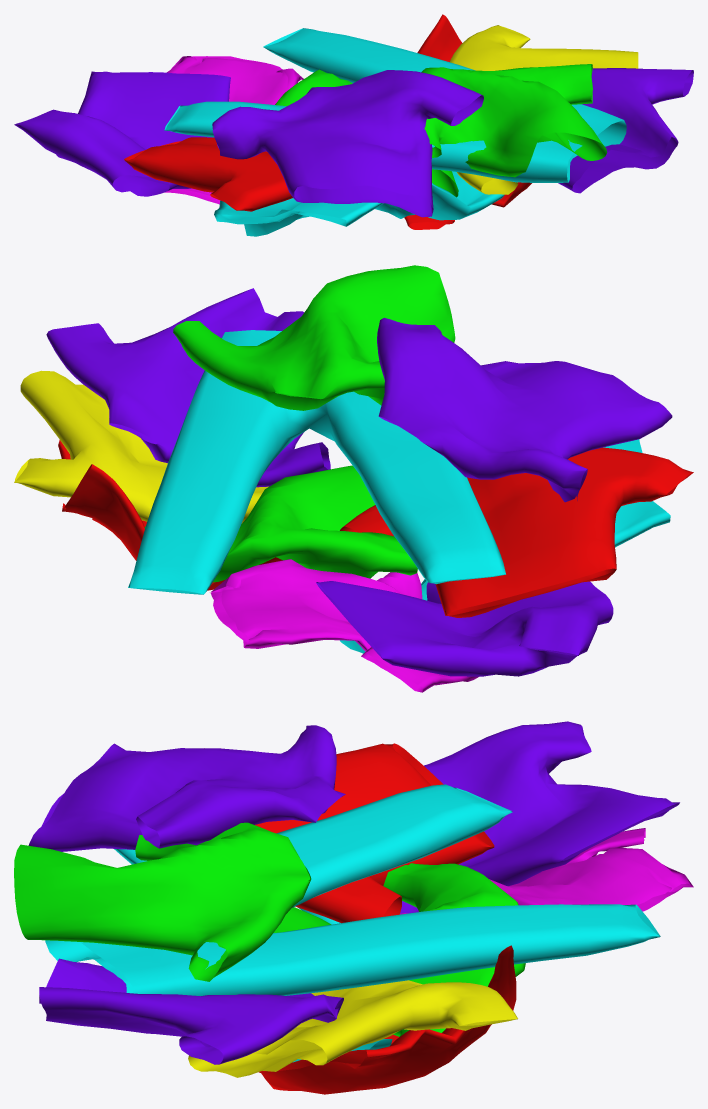
File: Platform 5.fbx
3 views of the same model, one above another, from view 1: azimuth 30°, elevation 25°; view 2: azimuth 150°, elevation 25°; view 3: azimuth 270°, elevation 25° (orthographic). The views are drawn at different scales.
Visible parts, largest first — view 1: First_platform, Depth_1; view 2: First_platform, Depth_1; view 3: First_platform, Depth_1.
Boxes of the visible parts, <box> form: First_platform: <box>14,14,693,236</box>; Depth_1: <box>212,64,607,217</box>; First_platform: <box>14,288,693,692</box>; Depth_1: <box>173,265,672,502</box>; First_platform: <box>39,721,693,1094</box>; Depth_1: <box>14,725,345,981</box>.
Size of the model in its own units: 5.66 by 1.87 by 4.57.
